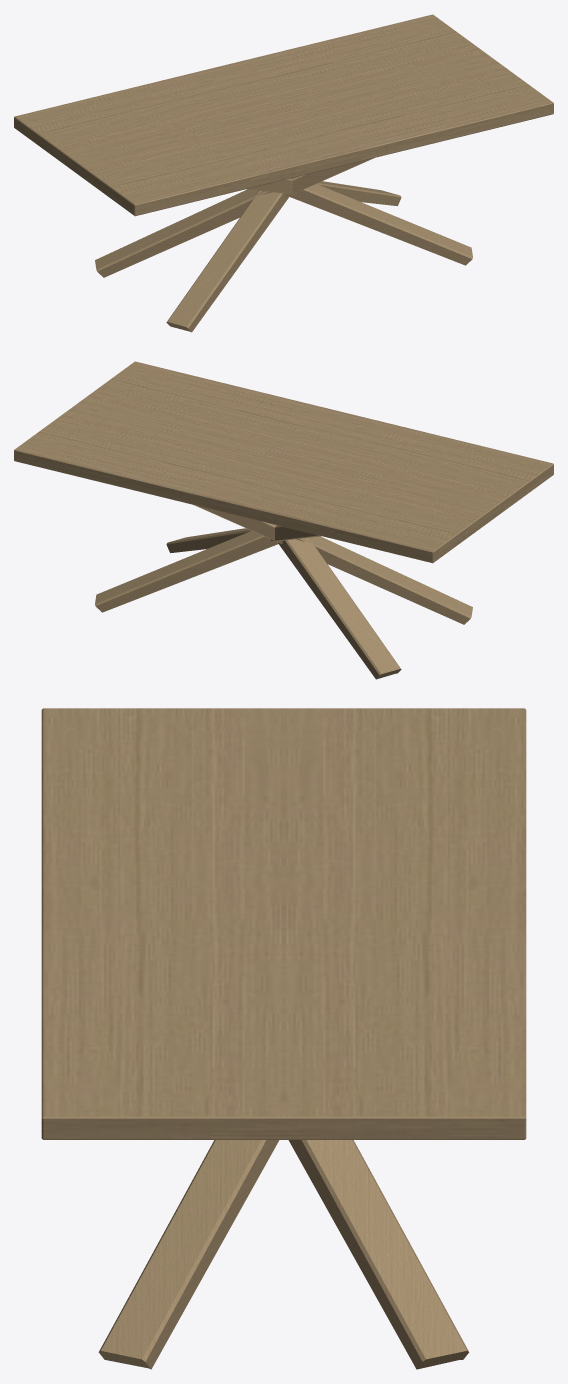
The model's file is rectangular-ash.glb.
3 views of the same model, one above another, from view 1: azimuth 30°, elevation 25°; view 2: azimuth 150°, elevation 25°; view 3: azimuth 270°, elevation 25° (orthographic). The views are drawn at different scales.
Parts seen in each view (by area): view 1: Top_target, Base_target; view 2: Top_target, Base_target; view 3: Top_target, Base_target.
Part boxes in pixels (x1,y1,x2,y2): Top_target: (14, 14, 553, 216); Base_target: (95, 158, 472, 332); Top_target: (14, 361, 553, 563); Base_target: (95, 505, 472, 679); Top_target: (41, 708, 526, 1139); Base_target: (98, 1140, 469, 1369).
Bounding box in the file's own units: 2.13 × 0.762 × 1.07.
Materials: 1 (1 with a texture image).
